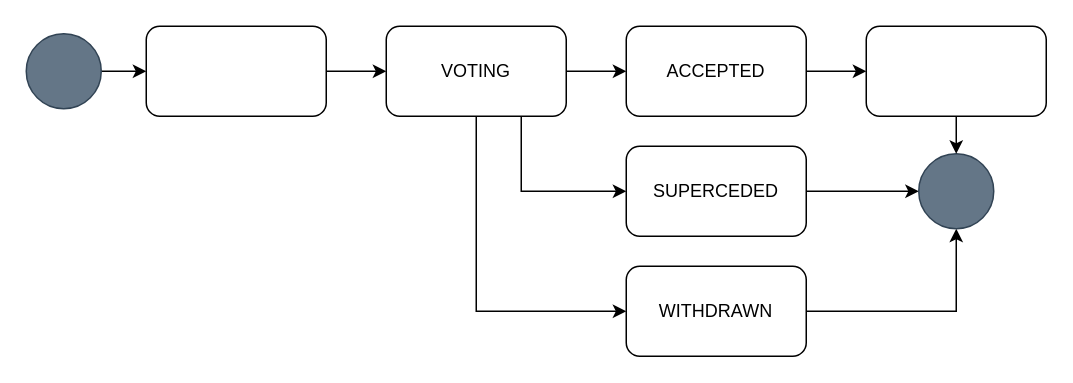
Some shapes in this 1073 by 383 pixel diagram are drawn without their labels. Each missing label, with the centre of its shape:
DELIVERED: [955,70]
DRAFT: [235,70]
